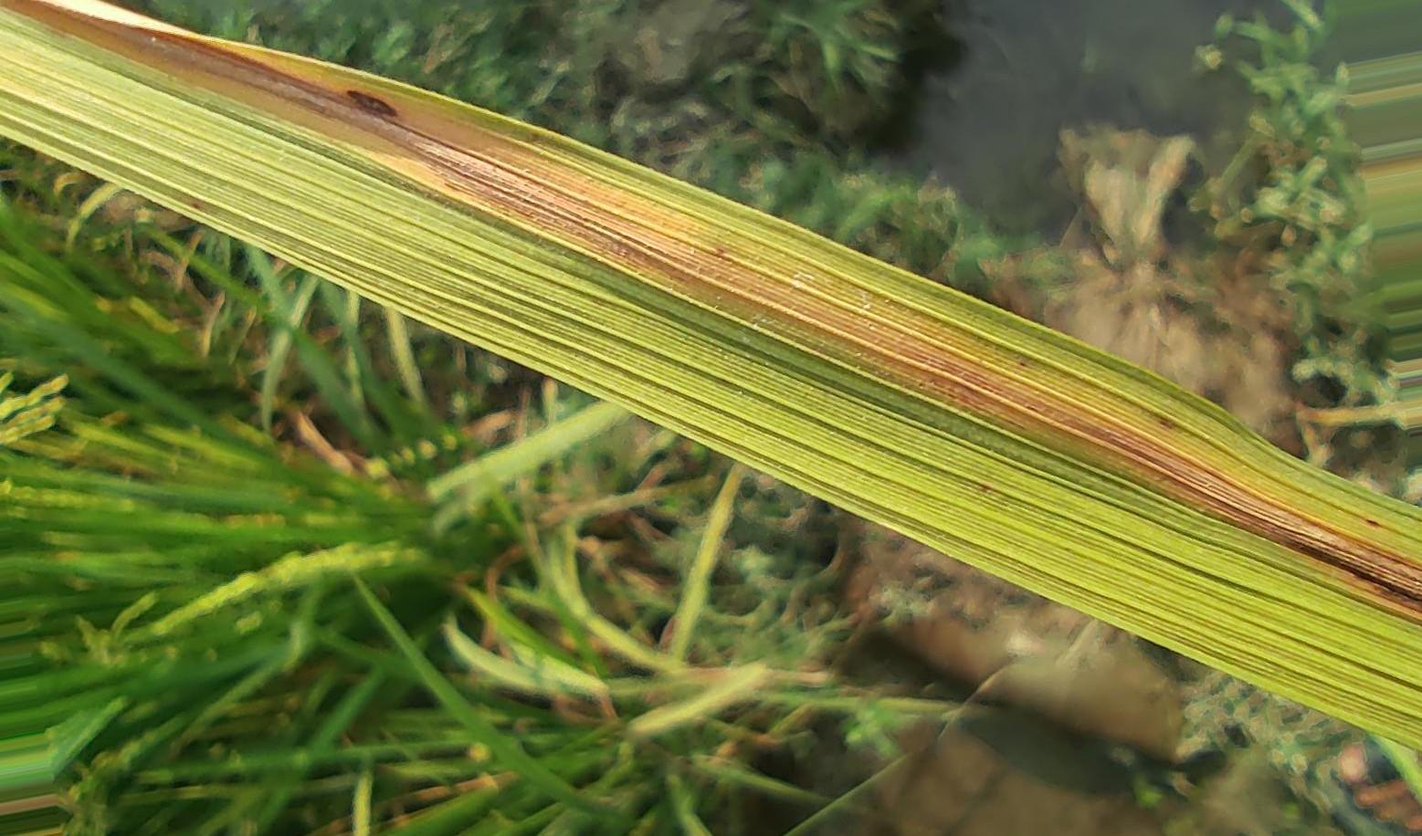LEAF: (0, 0, 1421, 746)
LEAF BLAST: (1253, 505, 1418, 605), (345, 90, 397, 118)
